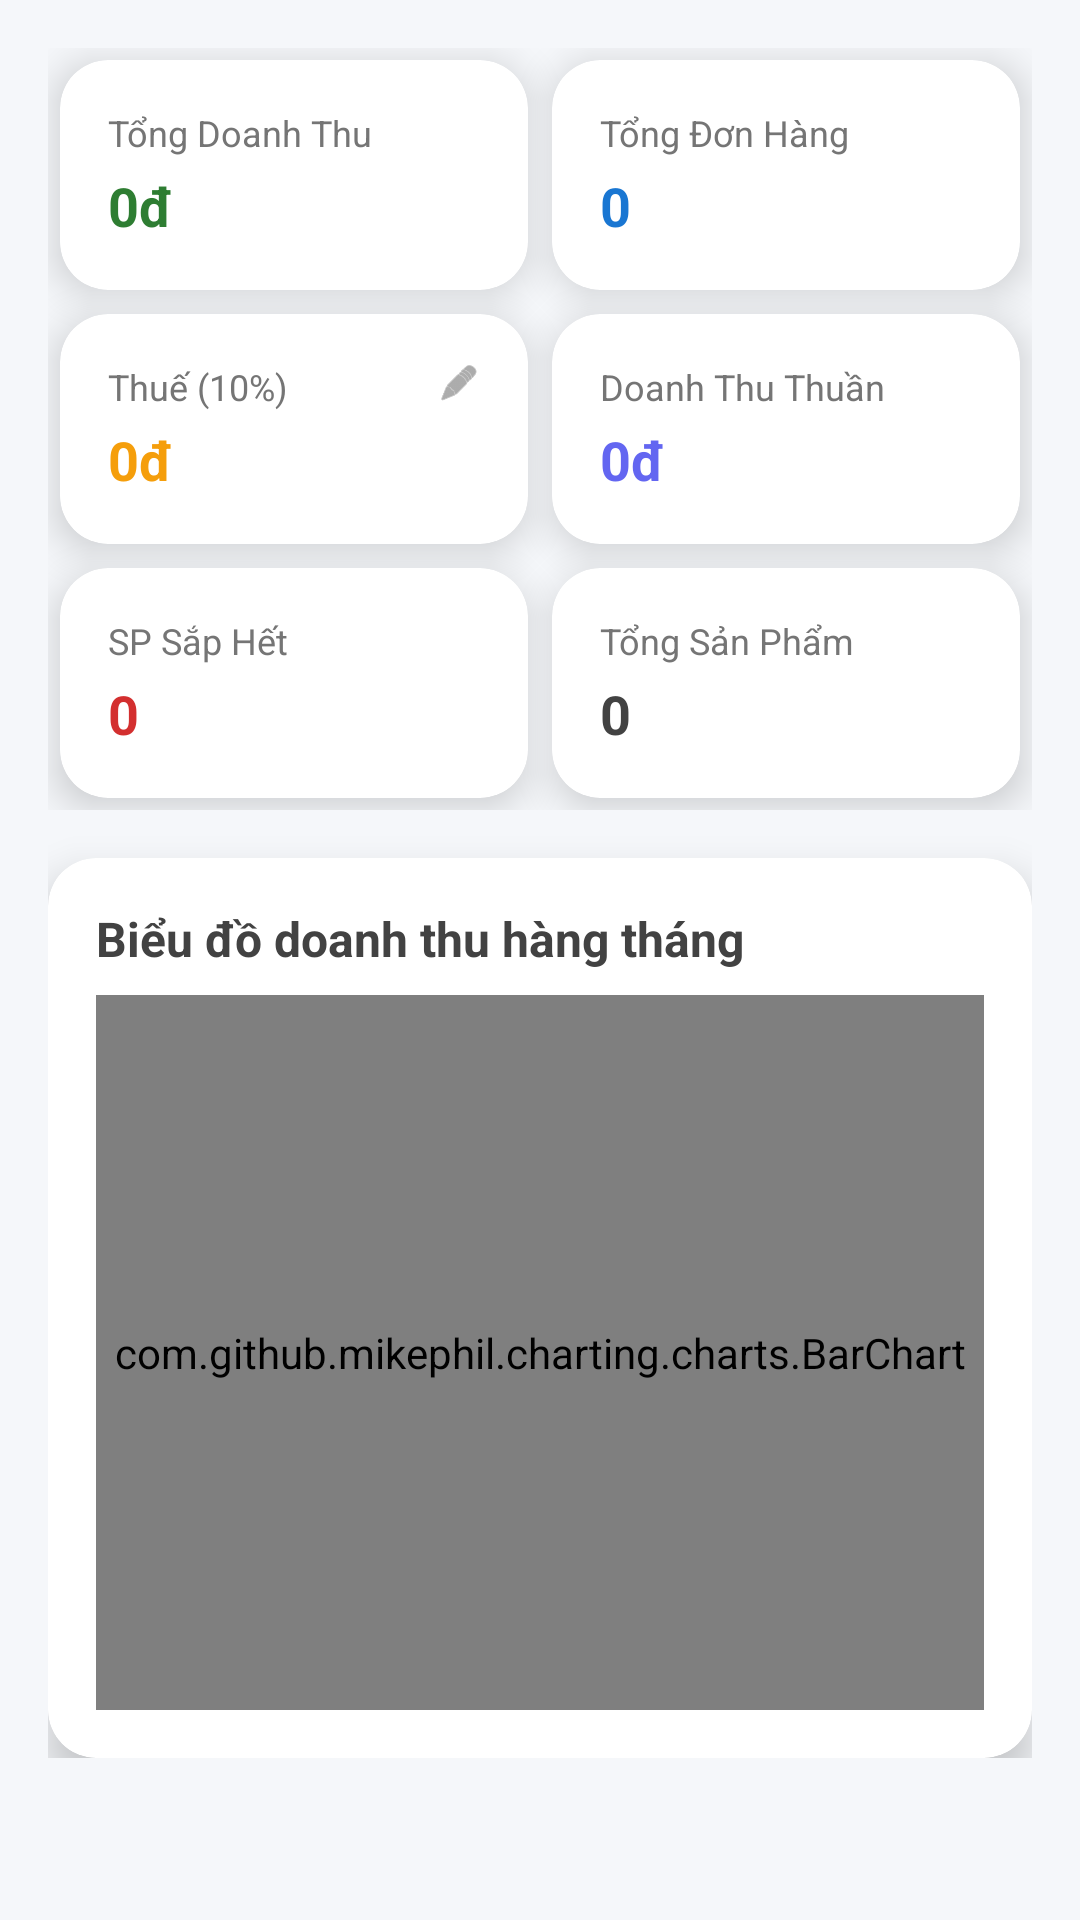

Icons on this 1080 × 1920 Android screen, each with its box as Rect(x1, y1, x2, y2):
edit: Rect(441, 365, 477, 400)
